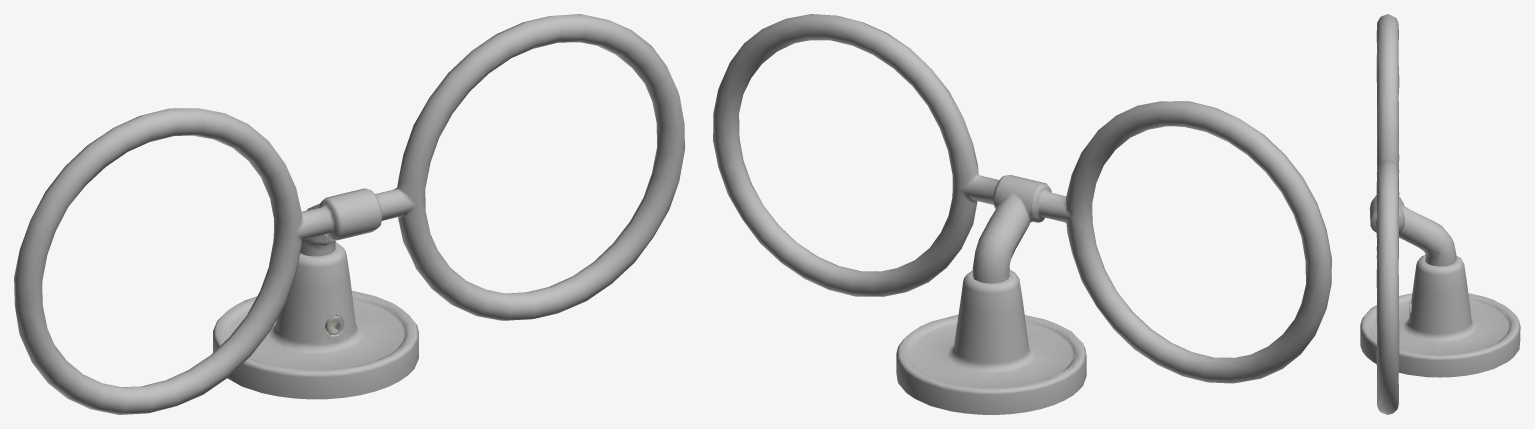
3 renders of one model, left to right at view 1: azimuth 30°, elevation 25°; view 2: azimuth 150°, elevation 25°; view 3: azimuth 270°, elevation 25°, orthographic. The views are drawn at different scales.
Visible parts, largest first — view 1: ASY_ART_90581546_S01_NV01; view 2: ASY_ART_90581546_S01_NV01; view 3: ASY_ART_90581546_S01_NV01.
Part boxes in pixels (x1=…): ASY_ART_90581546_S01_NV01: x1=14, y1=14, x2=684, y2=414; ASY_ART_90581546_S01_NV01: x1=713, y1=14, x2=1331, y2=414; ASY_ART_90581546_S01_NV01: x1=1360, y1=14, x2=1520, y2=414.
Size of the model in its own units: 0.1914 by 0.0863 by 0.0512.
Materials: 1 (1 with a texture image).
